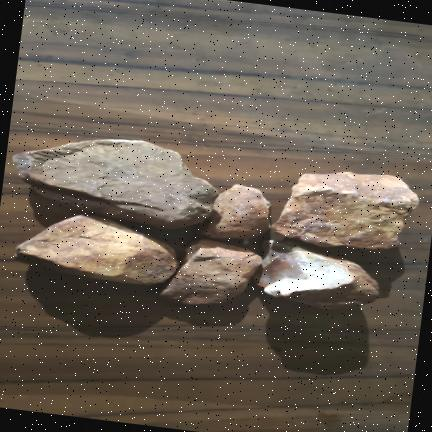Rocks: (14, 139, 217, 227), (17, 214, 178, 284), (273, 171, 418, 248), (257, 240, 379, 308), (162, 239, 262, 303), (204, 184, 269, 238)
